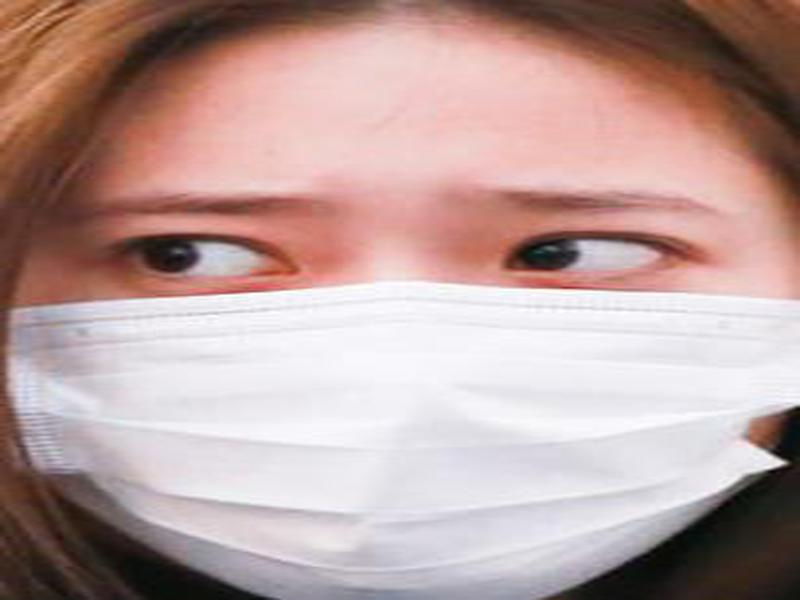with_mask: (1, 20, 799, 600)
